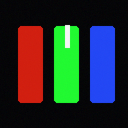4 line_v: (65, 25, 69, 47)
